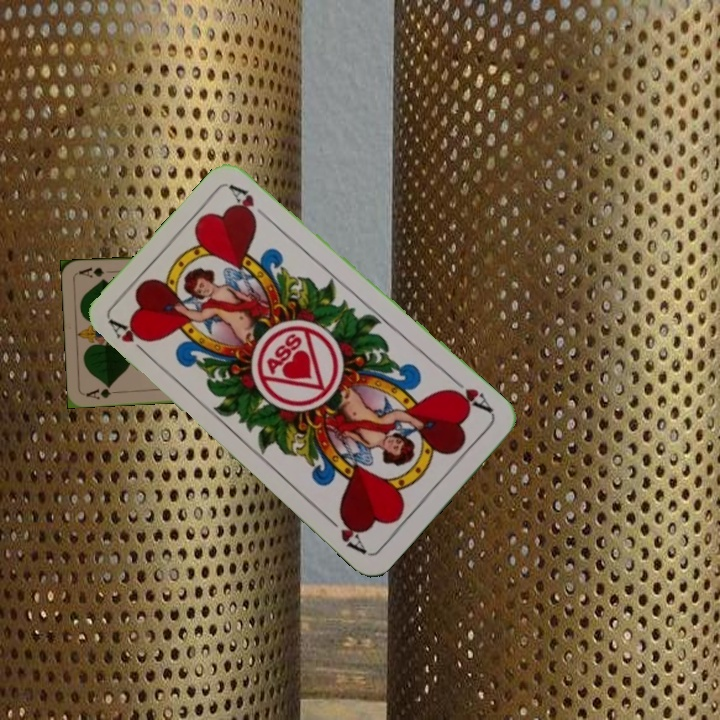GA: (82, 382, 122, 402)
HA: (106, 316, 154, 362), (445, 373, 496, 416)
